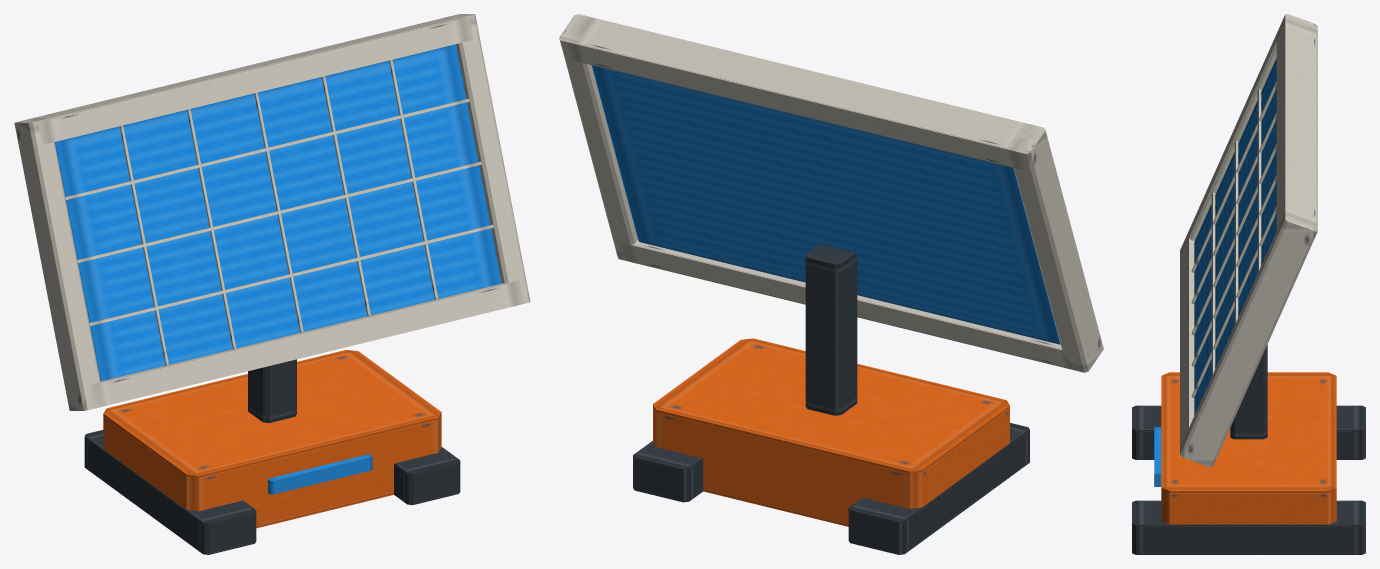
Rendered from solar-panel-textured.glb.
3 views of the same model, side by side, from view 1: azimuth 30°, elevation 25°; view 2: azimuth 150°, elevation 25°; view 3: azimuth 270°, elevation 25° (orthographic). The views are drawn at different scales.
Parts seen in each view (by area): view 1: panel, base, frame_top, frame_bottom, frame_left, cell_divider (×8), foot (×2), frame_right, mast, battery_indicator; view 2: panel, base, frame_top, foot (×2), frame_left, frame_bottom, mast, frame_right; view 3: base, foot (×2), panel, frame_right, frame_top, cell_divider (×8), frame_bottom, frame_left, mast, battery_indicator.
Part boxes in pixels (<box>): panel: <box>54,44,501,381</box>; base: <box>103,350,441,528</box>; frame_top: <box>24,16,473,144</box>; frame_bottom: <box>88,280,523,408</box>; frame_left: <box>14,118,103,410</box>; cell_divider (×8): <box>65,59,493,365</box>; foot (×2): <box>84,430,460,554</box>; frame_right: <box>440,14,530,304</box>; mast: <box>248,359,296,422</box>; battery_indicator: <box>268,454,372,494</box>; panel: <box>591,65,1060,344</box>; base: <box>653,338,1009,526</box>; frame_top: <box>565,15,1039,170</box>; foot (×2): <box>633,423,1029,554</box>; frame_left: <box>1008,124,1103,372</box>; frame_bottom: <box>619,239,1078,371</box>; mast: <box>805,244,857,415</box>; frame_right: <box>559,14,637,262</box>; base: <box>1161,372,1336,524</box>; foot (×2): <box>1132,405,1365,554</box>; panel: <box>1194,58,1276,415</box>; frame_right: <box>1180,212,1317,467</box>; frame_top: <box>1276,16,1317,235</box>; cell_divider (×8): <box>1191,80,1276,397</box>; frame_bottom: <box>1180,233,1194,452</box>; frame_left: <box>1180,14,1317,255</box>; mast: <box>1230,344,1267,439</box>; battery_indicator: <box>1154,427,1161,486</box>.
Size of the model in its own units: 2.1 by 1.78 by 1.
1 material, 1 textured.
